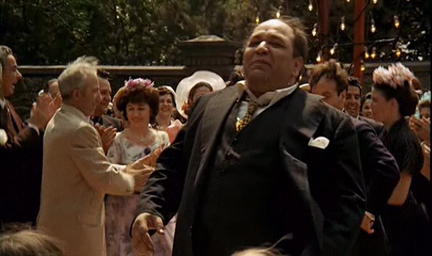face: (244, 19, 294, 78), (310, 76, 336, 108), (5, 54, 23, 97), (343, 85, 361, 113), (370, 89, 385, 121), (127, 104, 147, 126), (90, 83, 103, 115), (98, 85, 113, 110), (158, 94, 173, 118), (419, 107, 432, 122), (361, 102, 373, 117)
ms: (1, 1, 432, 256)
person: (130, 15, 401, 256), (36, 57, 149, 256), (308, 58, 399, 256), (370, 62, 432, 256), (1, 46, 62, 234), (106, 79, 171, 167), (416, 91, 432, 122)
